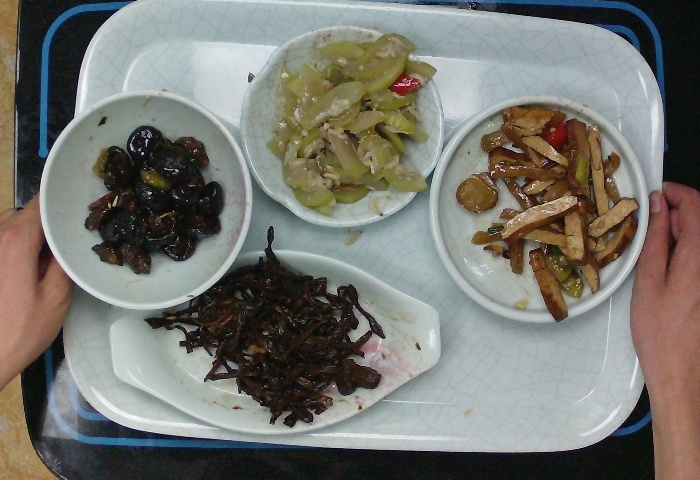JYsf-Ao_Yuan_Wan: (236, 19, 450, 235)
JYsf-Fan_Wan: (30, 87, 263, 314)
JYsf-Xiao_Yuan_Pan: (422, 89, 649, 329)
JYsf-Yu_Pan: (100, 242, 448, 442)
